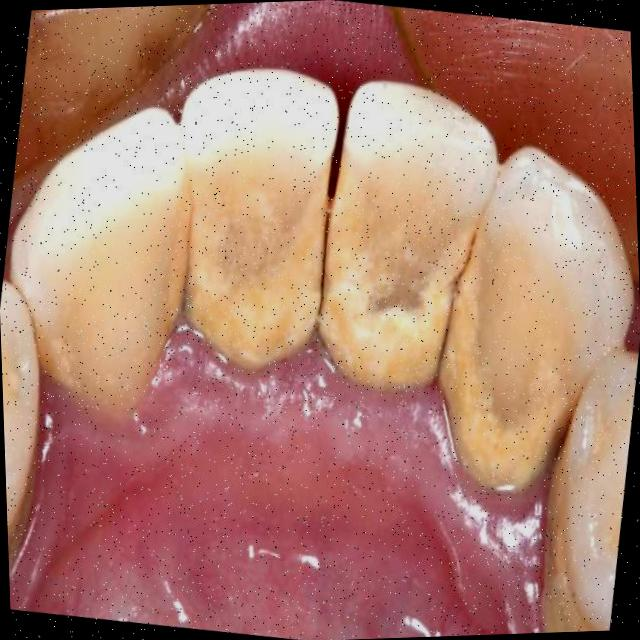calculus: (429, 221, 554, 499), (176, 149, 330, 365), (309, 163, 458, 384), (523, 431, 617, 633), (116, 189, 208, 354)
